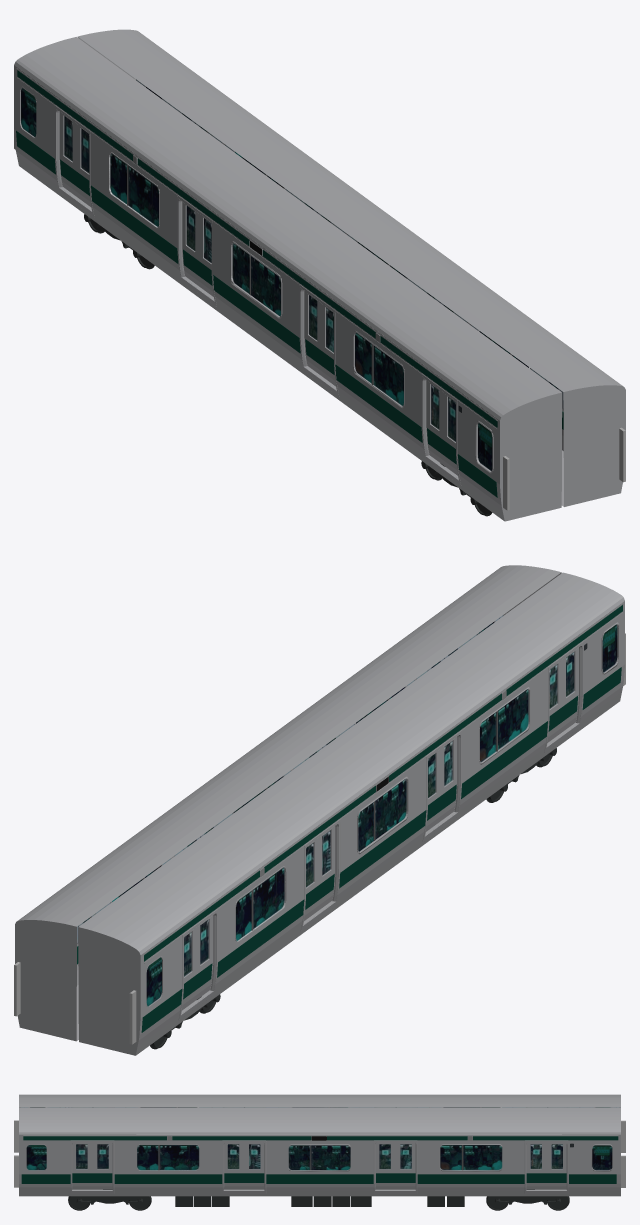
The model's file is saikyou.glb.
The picture shows the model from 3 angles, top to bottom: view 1: azimuth 30°, elevation 25°; view 2: azimuth 150°, elevation 25°; view 3: azimuth 270°, elevation 25°; orthographic projection. The views are drawn at different scales.
Parts seen in each view (by area): view 1: train_bode.001, train_bode, pic, pic.001; view 2: train_bode.001, train_bode, pic, pic.001; view 3: train_bode, train_bode.001, pic.003, pic.002, 円柱.007, 円柱, 立方体.064, 立方体.003, pic, pic.001, 立方体.072, 立方体.075 (+2 smaller).
Boxes of the visible parts, x1=… form: train_bode.001: x1=14, y1=37, x2=562, y2=521; train_bode: x1=77, y1=29, x2=625, y2=506; pic: x1=21, y1=88, x2=492, y2=470; pic.001: x1=64, y1=116, x2=455, y2=441; train_bode.001: x1=78, y1=572, x2=625, y2=1055; train_bode: x1=14, y1=565, x2=561, y2=1041; pic: x1=146, y1=624, x2=617, y2=1006; pic.001: x1=184, y1=652, x2=574, y2=976; train_bode: x1=14, y1=1107, x2=625, y2=1196; train_bode.001: x1=14, y1=1094, x2=625, y2=1152; pic.003: x1=26, y1=1145, x2=612, y2=1170; pic.002: x1=76, y1=1144, x2=562, y2=1169; 円柱.007: x1=486, y1=1196, x2=569, y2=1210; 円柱: x1=68, y1=1196, x2=151, y2=1210; 立方体.064: x1=75, y1=1196, x2=144, y2=1204; 立方体.003: x1=493, y1=1196, x2=562, y2=1204; pic: x1=25, y1=1107, x2=615, y2=1107; pic.001: x1=19, y1=1107, x2=620, y2=1107; 立方体.072: x1=350, y1=1196, x2=371, y2=1206; 立方体.075: x1=291, y1=1196, x2=312, y2=1206.
Bounding box in the file's own units: 2.08 × 2.45 × 13.83.
41 materials, 4 textured.
